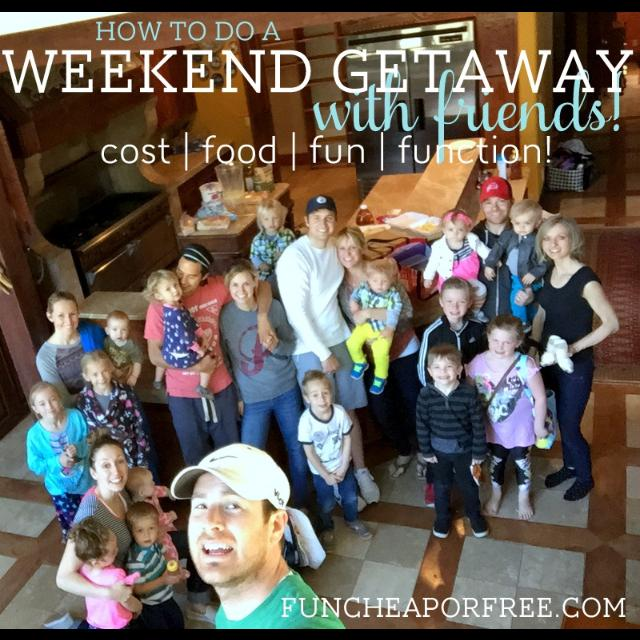head: (187, 450, 291, 586), (88, 438, 130, 494), (74, 524, 120, 570), (175, 248, 212, 296), (487, 314, 525, 360), (540, 215, 578, 261), (438, 276, 476, 320), (479, 181, 517, 225), (46, 289, 82, 335), (126, 500, 160, 548), (427, 344, 465, 386), (29, 380, 65, 422), (304, 196, 338, 240), (228, 258, 258, 304), (80, 351, 114, 389), (510, 200, 544, 238), (302, 372, 334, 412), (338, 226, 367, 268), (148, 270, 186, 302), (442, 208, 472, 242), (124, 467, 156, 497), (366, 260, 394, 294), (105, 311, 131, 344), (259, 198, 283, 232)
person: (138, 240, 280, 536), (273, 192, 383, 514), (446, 171, 552, 477), (201, 256, 313, 528), (328, 223, 434, 482), (532, 210, 622, 504), (32, 288, 132, 498), (414, 273, 500, 511), (23, 378, 121, 584), (70, 346, 158, 568), (464, 312, 550, 526), (411, 344, 495, 540), (295, 368, 377, 552), (140, 268, 220, 404), (422, 204, 501, 330), (482, 198, 552, 338), (121, 464, 192, 590), (344, 256, 404, 398), (248, 196, 302, 334), (85, 307, 145, 428)
